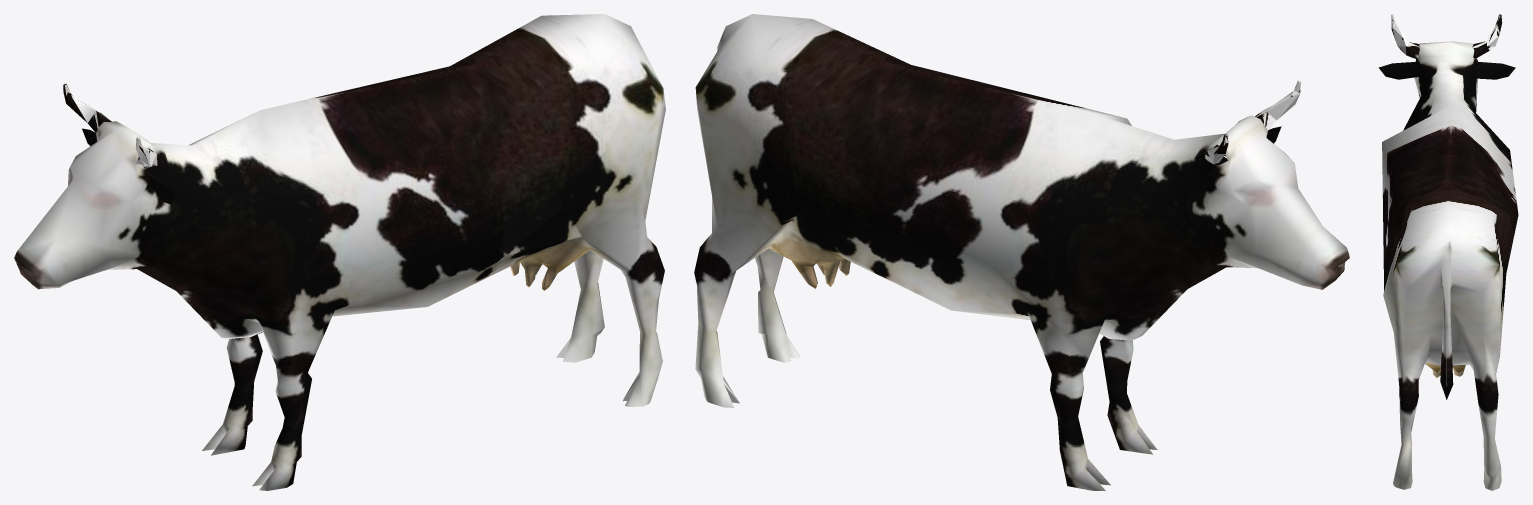
File: cow_low.obj
3 renders of one model, left to right at view 1: azimuth 30°, elevation 25°; view 2: azimuth 150°, elevation 25°; view 3: azimuth 270°, elevation 25°, orthographic. The views are drawn at different scales.
Parts seen in each view (by area): view 1: COWBODY, COWcuern; view 2: COWBODY, COWcuern; view 3: COWBODY, COWcuern.
Boxes of the visible parts, left/top/right/bottom form: COWBODY: left=14, top=14, right=665, bottom=490; COWcuern: left=63, top=83, right=157, bottom=167; COWBODY: left=694, top=14, right=1349, bottom=490; COWcuern: left=1205, top=80, right=1300, bottom=165; COWBODY: left=1379, top=41, right=1518, bottom=490; COWcuern: left=1391, top=14, right=1502, bottom=59.
Bounding box in the file's own units: 2.44 × 1.46 × 0.6432.
